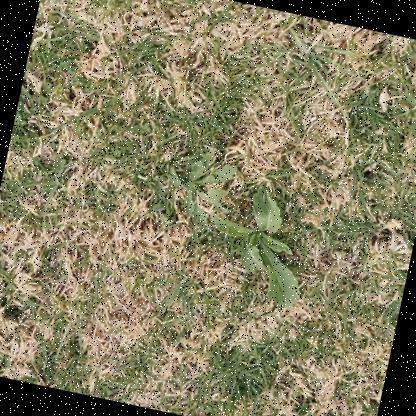Weeds: (194, 172, 321, 312), (154, 140, 240, 238)
